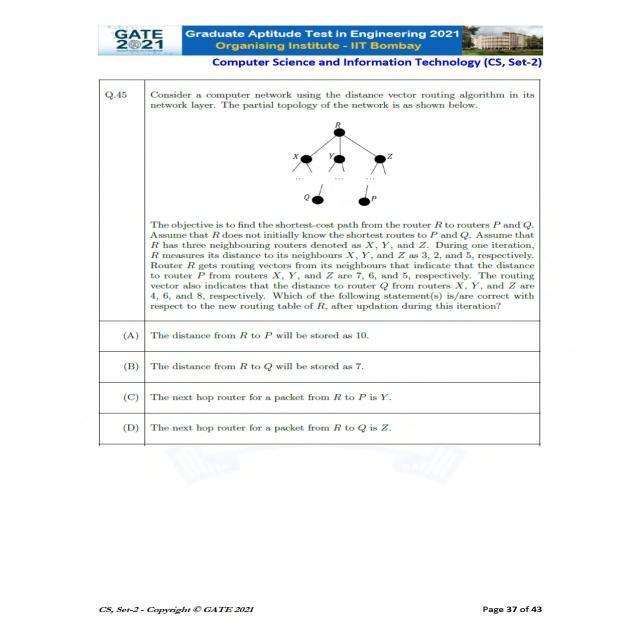Answer_Block: (66, 322, 575, 460)
Question_Answer_Block: (56, 74, 576, 473)
Question_Block: (56, 74, 576, 320)
Question_Paper_Area: (56, 74, 576, 473)
